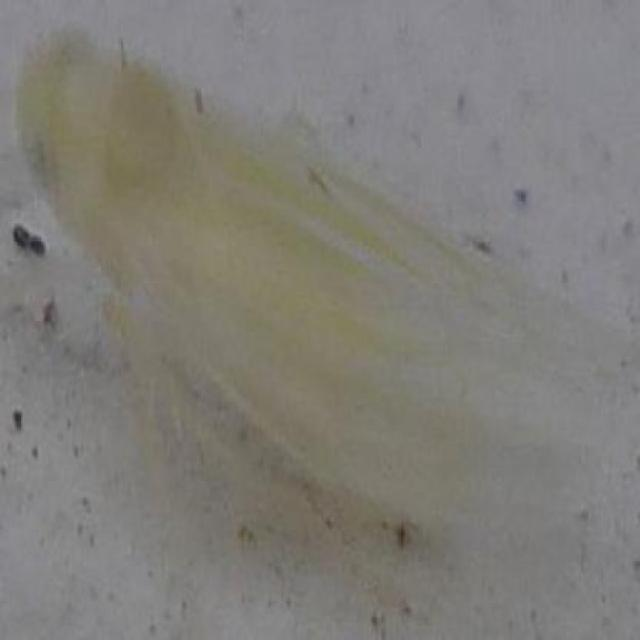green-leafhopper: (21, 21, 558, 534)
